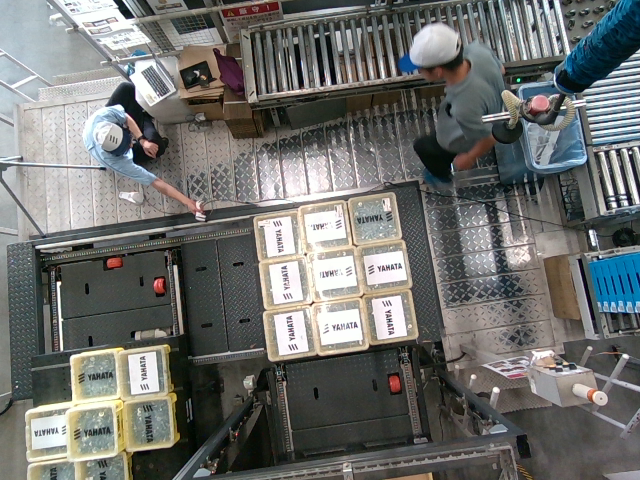box: (257, 260, 310, 305), (252, 213, 302, 258), (297, 202, 347, 247), (350, 198, 400, 243), (359, 247, 409, 292), (307, 250, 357, 295), (366, 296, 416, 341), (314, 305, 364, 350), (265, 311, 315, 356)
